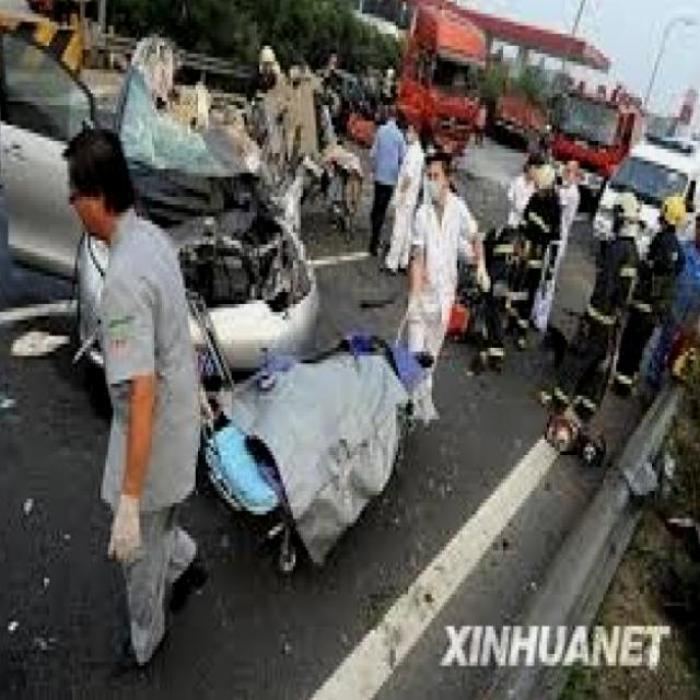Accident: (81, 29, 336, 405)
